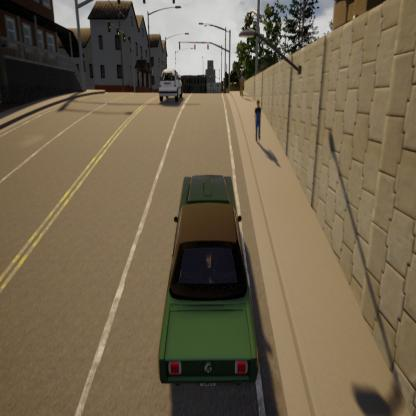Cars: (154, 155, 272, 416), (152, 56, 192, 112)
Pedestrian: (247, 86, 269, 148)
